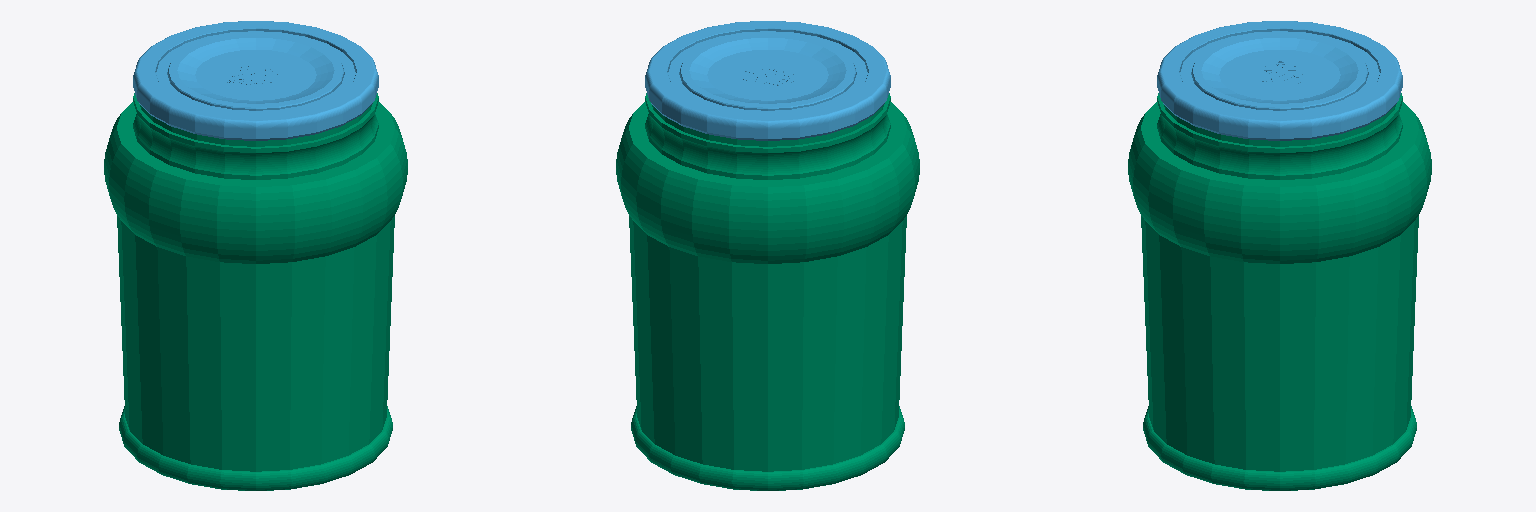
The robot description file, URDF, robot "partnet_1a7ba1f4c892e2da30711cdbdbc73924":
<?xml version="1.0" ?>
<robot name="partnet_1a7ba1f4c892e2da30711cdbdbc73924">
	<link name="base"/>
	<link name="link_0">
		<visual name="lid-4">
			<origin xyz="-0.002238851945603434 0 0.010842275194865077"/>
			<geometry>
				<mesh filename="textured_objs/original-13.obj"/>
			</geometry>
		</visual>
		<visual name="lid-4">
			<origin xyz="-0.002238851945603434 0 0.010842275194865077"/>
			<geometry>
				<mesh filename="textured_objs/original-12.obj"/>
			</geometry>
		</visual>
		<visual name="lid-4">
			<origin xyz="-0.002238851945603434 0 0.010842275194865077"/>
			<geometry>
				<mesh filename="textured_objs/original-26.obj"/>
			</geometry>
		</visual>
		<visual name="lid-4">
			<origin xyz="-0.002238851945603434 0 0.010842275194865077"/>
			<geometry>
				<mesh filename="textured_objs/original-14.obj"/>
			</geometry>
		</visual>
		<visual name="lid-4">
			<origin xyz="-0.002238851945603434 0 0.010842275194865077"/>
			<geometry>
				<mesh filename="textured_objs/original-16.obj"/>
			</geometry>
		</visual>
		<visual name="lid-4">
			<origin xyz="-0.002238851945603434 0 0.010842275194865077"/>
			<geometry>
				<mesh filename="textured_objs/original-15.obj"/>
			</geometry>
		</visual>
		<visual name="lid-4">
			<origin xyz="-0.002238851945603434 0 0.010842275194865077"/>
			<geometry>
				<mesh filename="textured_objs/original-18.obj"/>
			</geometry>
		</visual>
		<visual name="lid-4">
			<origin xyz="-0.002238851945603434 0 0.010842275194865077"/>
			<geometry>
				<mesh filename="textured_objs/original-29.obj"/>
			</geometry>
		</visual>
		<visual name="lid-4">
			<origin xyz="-0.002238851945603434 0 0.010842275194865077"/>
			<geometry>
				<mesh filename="textured_objs/original-20.obj"/>
			</geometry>
		</visual>
		<visual name="lid-4">
			<origin xyz="-0.002238851945603434 0 0.010842275194865077"/>
			<geometry>
				<mesh filename="textured_objs/original-17.obj"/>
			</geometry>
		</visual>
		<visual name="lid-4">
			<origin xyz="-0.002238851945603434 0 0.010842275194865077"/>
			<geometry>
				<mesh filename="textured_objs/original-19.obj"/>
			</geometry>
		</visual>
		<visual name="lid-4">
			<origin xyz="-0.002238851945603434 0 0.010842275194865077"/>
			<geometry>
				<mesh filename="textured_objs/original-11.obj"/>
			</geometry>
		</visual>
		<visual name="lid-4">
			<origin xyz="-0.002238851945603434 0 0.010842275194865077"/>
			<geometry>
				<mesh filename="textured_objs/original-8.obj"/>
			</geometry>
		</visual>
		<visual name="lid-4">
			<origin xyz="-0.002238851945603434 0 0.010842275194865077"/>
			<geometry>
				<mesh filename="textured_objs/original-9.obj"/>
			</geometry>
		</visual>
		<visual name="lid-4">
			<origin xyz="-0.002238851945603434 0 0.010842275194865077"/>
			<geometry>
				<mesh filename="textured_objs/original-10.obj"/>
			</geometry>
		</visual>
		<visual name="lid-4">
			<origin xyz="-0.002238851945603434 0 0.010842275194865077"/>
			<geometry>
				<mesh filename="textured_objs/original-23.obj"/>
			</geometry>
		</visual>
		<visual name="lid-4">
			<origin xyz="-0.002238851945603434 0 0.010842275194865077"/>
			<geometry>
				<mesh filename="textured_objs/original-21.obj"/>
			</geometry>
		</visual>
		<visual name="lid-4">
			<origin xyz="-0.002238851945603434 0 0.010842275194865077"/>
			<geometry>
				<mesh filename="textured_objs/original-25.obj"/>
			</geometry>
		</visual>
		<visual name="lid-4">
			<origin xyz="-0.002238851945603434 0 0.010842275194865077"/>
			<geometry>
				<mesh filename="textured_objs/original-22.obj"/>
			</geometry>
		</visual>
		<visual name="lid-4">
			<origin xyz="-0.002238851945603434 0 0.010842275194865077"/>
			<geometry>
				<mesh filename="textured_objs/original-24.obj"/>
			</geometry>
		</visual>
		<visual name="lid-4">
			<origin xyz="-0.002238851945603434 0 0.010842275194865077"/>
			<geometry>
				<mesh filename="textured_objs/original-27.obj"/>
			</geometry>
		</visual>
		<visual name="lid-4">
			<origin xyz="-0.002238851945603434 0 0.010842275194865077"/>
			<geometry>
				<mesh filename="textured_objs/original-28.obj"/>
			</geometry>
		</visual>
		<visual name="lid-4">
			<origin xyz="-0.002238851945603434 0 0.010842275194865077"/>
			<geometry>
				<mesh filename="textured_objs/original-4.obj"/>
			</geometry>
		</visual>
		<visual name="lid-4">
			<origin xyz="-0.002238851945603434 0 0.010842275194865077"/>
			<geometry>
				<mesh filename="textured_objs/original-5.obj"/>
			</geometry>
		</visual>
		<visual name="lid-4">
			<origin xyz="-0.002238851945603434 0 0.010842275194865077"/>
			<geometry>
				<mesh filename="textured_objs/original-6.obj"/>
			</geometry>
		</visual>
		<visual name="lid-4">
			<origin xyz="-0.002238851945603434 0 0.010842275194865077"/>
			<geometry>
				<mesh filename="textured_objs/original-7.obj"/>
			</geometry>
		</visual>
		<collision>
			<origin xyz="-0.002238851945603434 0 0.010842275194865077"/>
			<geometry>
				<mesh filename="textured_objs/original-13.obj"/>
			</geometry>
		</collision>
		<collision>
			<origin xyz="-0.002238851945603434 0 0.010842275194865077"/>
			<geometry>
				<mesh filename="textured_objs/original-12.obj"/>
			</geometry>
		</collision>
		<collision>
			<origin xyz="-0.002238851945603434 0 0.010842275194865077"/>
			<geometry>
				<mesh filename="textured_objs/original-26.obj"/>
			</geometry>
		</collision>
		<collision>
			<origin xyz="-0.002238851945603434 0 0.010842275194865077"/>
			<geometry>
				<mesh filename="textured_objs/original-14.obj"/>
			</geometry>
		</collision>
		<collision>
			<origin xyz="-0.002238851945603434 0 0.010842275194865077"/>
			<geometry>
				<mesh filename="textured_objs/original-16.obj"/>
			</geometry>
		</collision>
		<collision>
			<origin xyz="-0.002238851945603434 0 0.010842275194865077"/>
			<geometry>
				<mesh filename="textured_objs/original-15.obj"/>
			</geometry>
		</collision>
		<collision>
			<origin xyz="-0.002238851945603434 0 0.010842275194865077"/>
			<geometry>
				<mesh filename="textured_objs/original-18.obj"/>
			</geometry>
		</collision>
		<collision>
			<origin xyz="-0.002238851945603434 0 0.010842275194865077"/>
			<geometry>
				<mesh filename="textured_objs/original-29.obj"/>
			</geometry>
		</collision>
		<collision>
			<origin xyz="-0.002238851945603434 0 0.010842275194865077"/>
			<geometry>
				<mesh filename="textured_objs/original-20.obj"/>
			</geometry>
		</collision>
		<collision>
			<origin xyz="-0.002238851945603434 0 0.010842275194865077"/>
			<geometry>
				<mesh filename="textured_objs/original-17.obj"/>
			</geometry>
		</collision>
		<collision>
			<origin xyz="-0.002238851945603434 0 0.010842275194865077"/>
			<geometry>
				<mesh filename="textured_objs/original-19.obj"/>
			</geometry>
		</collision>
		<collision>
			<origin xyz="-0.002238851945603434 0 0.010842275194865077"/>
			<geometry>
				<mesh filename="textured_objs/original-11.obj"/>
			</geometry>
		</collision>
		<collision>
			<origin xyz="-0.002238851945603434 0 0.010842275194865077"/>
			<geometry>
				<mesh filename="textured_objs/original-8.obj"/>
			</geometry>
		</collision>
		<collision>
			<origin xyz="-0.002238851945603434 0 0.010842275194865077"/>
			<geometry>
				<mesh filename="textured_objs/original-9.obj"/>
			</geometry>
		</collision>
		<collision>
			<origin xyz="-0.002238851945603434 0 0.010842275194865077"/>
			<geometry>
				<mesh filename="textured_objs/original-10.obj"/>
			</geometry>
		</collision>
		<collision>
			<origin xyz="-0.002238851945603434 0 0.010842275194865077"/>
			<geometry>
				<mesh filename="textured_objs/original-23.obj"/>
			</geometry>
		</collision>
		<collision>
			<origin xyz="-0.002238851945603434 0 0.010842275194865077"/>
			<geometry>
				<mesh filename="textured_objs/original-21.obj"/>
			</geometry>
		</collision>
		<collision>
			<origin xyz="-0.002238851945603434 0 0.010842275194865077"/>
			<geometry>
				<mesh filename="textured_objs/original-25.obj"/>
			</geometry>
		</collision>
		<collision>
			<origin xyz="-0.002238851945603434 0 0.010842275194865077"/>
			<geometry>
				<mesh filename="textured_objs/original-22.obj"/>
			</geometry>
		</collision>
		<collision>
			<origin xyz="-0.002238851945603434 0 0.010842275194865077"/>
			<geometry>
				<mesh filename="textured_objs/original-24.obj"/>
			</geometry>
		</collision>
		<collision>
			<origin xyz="-0.002238851945603434 0 0.010842275194865077"/>
			<geometry>
				<mesh filename="textured_objs/original-27.obj"/>
			</geometry>
		</collision>
		<collision>
			<origin xyz="-0.002238851945603434 0 0.010842275194865077"/>
			<geometry>
				<mesh filename="textured_objs/original-28.obj"/>
			</geometry>
		</collision>
		<collision>
			<origin xyz="-0.002238851945603434 0 0.010842275194865077"/>
			<geometry>
				<mesh filename="textured_objs/original-4.obj"/>
			</geometry>
		</collision>
		<collision>
			<origin xyz="-0.002238851945603434 0 0.010842275194865077"/>
			<geometry>
				<mesh filename="textured_objs/original-5.obj"/>
			</geometry>
		</collision>
		<collision>
			<origin xyz="-0.002238851945603434 0 0.010842275194865077"/>
			<geometry>
				<mesh filename="textured_objs/original-6.obj"/>
			</geometry>
		</collision>
		<collision>
			<origin xyz="-0.002238851945603434 0 0.010842275194865077"/>
			<geometry>
				<mesh filename="textured_objs/original-7.obj"/>
			</geometry>
		</collision>
	</link>
	<joint name="joint_0" type="continuous">
		<origin xyz="0.0 0 0.0"/>
		<axis xyz="0 1 0"/>
		<child link="link_0"/>
		<parent link="link_0_helper"/>
	</joint>
	<link name="link_1">
		<visual name="other_leaf-7">
			<origin xyz="0 0 0"/>
			<geometry>
				<mesh filename="textured_objs/original-1.obj"/>
			</geometry>
		</visual>
		<visual name="container-5">
			<origin xyz="0 0 0"/>
			<geometry>
				<mesh filename="textured_objs/new-1.obj"/>
			</geometry>
		</visual>
		<visual name="bottom-6">
			<origin xyz="0 0 0"/>
			<geometry>
				<mesh filename="textured_objs/new-0.obj"/>
			</geometry>
		</visual>
		<collision>
			<origin xyz="0 0 0"/>
			<geometry>
				<mesh filename="textured_objs/original-1.obj"/>
			</geometry>
		</collision>
		<collision>
			<origin xyz="0 0 0"/>
			<geometry>
				<mesh filename="textured_objs/new-1.obj"/>
			</geometry>
		</collision>
		<collision>
			<origin xyz="0 0 0"/>
			<geometry>
				<mesh filename="textured_objs/new-0.obj"/>
			</geometry>
		</collision>
	</link>
	<joint name="joint_1" type="fixed">
		<origin rpy="1.570796326794897 0 -1.570796326794897" xyz="0 0 0"/>
		<child link="link_1"/>
		<parent link="base"/>
	</joint>
	<link name="link_0_helper"/>
	<joint name="joint_2" type="prismatic">
		<origin xyz="0.002238851945603434 0 -0.010842275194865077"/>
		<axis xyz="0 1 0"/>
		<child link="link_0_helper"/>
		<parent link="link_1"/>
		<limit lower="-0.04800000000000004" upper="0.008000000000000007"/>
	</joint>
</robot>

--- Facts derived from the render (not from the file) ---
Views: 3 orthographic renders of the robot side by side, from view 1: azimuth 30°, elevation 25°; view 2: azimuth 150°, elevation 25°; view 3: azimuth 270°, elevation 25°.
Robot: partnet_1a7ba1f4c892e2da30711cdbdbc73924 — 4 links, 3 joints (1 continuous, 1 prismatic, 1 fixed); root link base; default pose: every joint at zero.
Visible links, largest first — view 1: link_1, link_0; view 2: link_1, link_0; view 3: link_1, link_0.
Boxes of the visible links, x1,y1,x2,y2 form: link_1: (104, 93, 407, 490); link_0: (133, 21, 378, 140); link_1: (616, 93, 919, 490); link_0: (645, 21, 890, 140); link_1: (1128, 93, 1431, 490); link_0: (1157, 21, 1402, 140).
Bounding box of the posed robot: 1.23 × 1.23 × 1.63 m (x, y, z).
29 mesh visuals loaded from 29 distinct referenced files (29 OBJ).